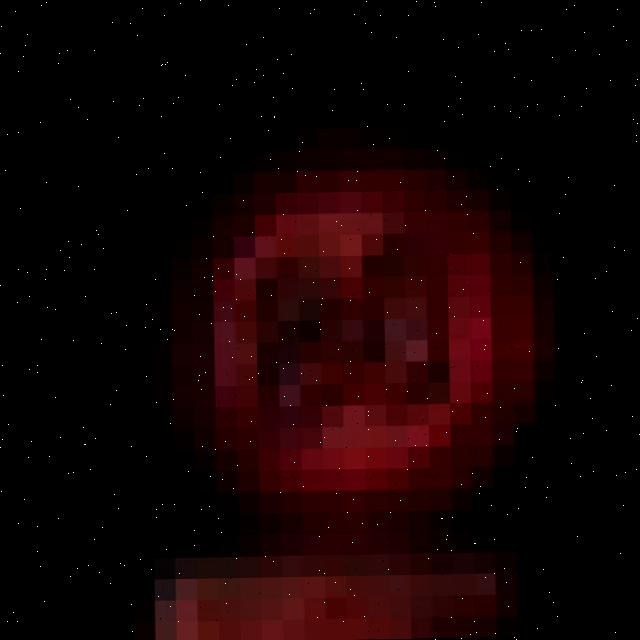Ograniczenie predkosci do 80: (147, 114, 550, 558)
